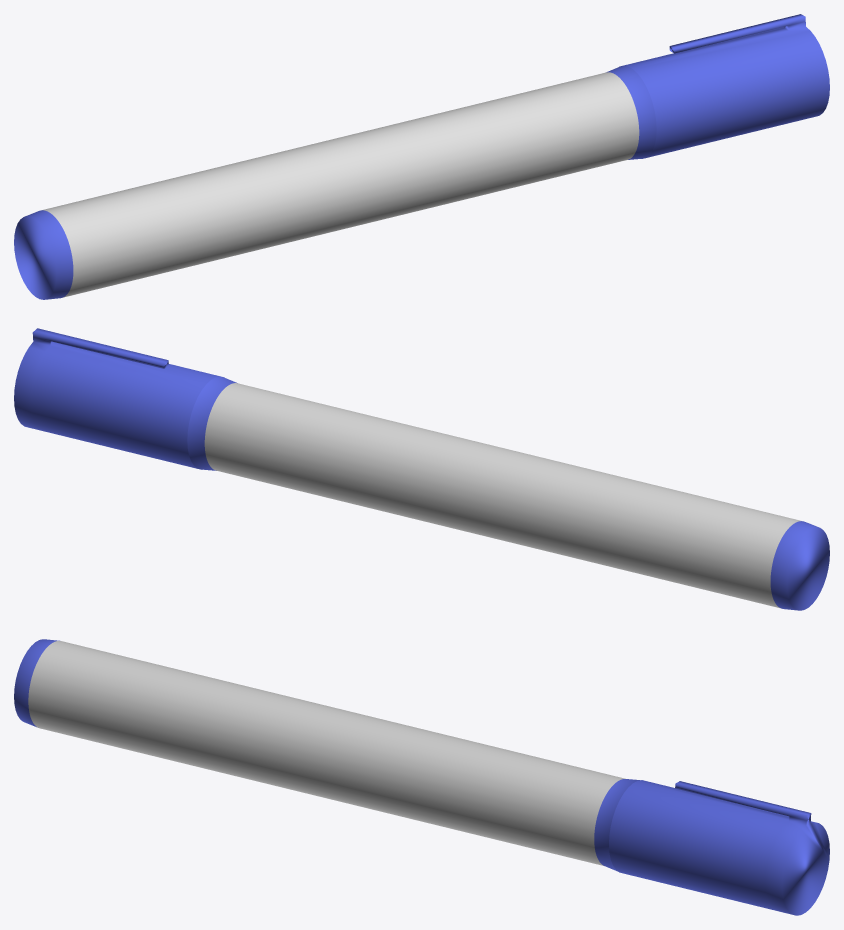
Rendered from feutreBleu.fbx.
The picture shows the model from 3 angles, top to bottom: view 1: azimuth 30°, elevation 25°; view 2: azimuth 150°, elevation 25°; view 3: azimuth 330°, elevation 25°; orthographic projection.
Visible parts, largest first — view 1: stylo; view 2: stylo; view 3: stylo.
Boxes of the visible parts, bbox=[...] form: stylo: bbox=[14, 14, 829, 299]; stylo: bbox=[14, 328, 829, 610]; stylo: bbox=[14, 639, 829, 915].
Bounding box in the file's own units: 2.72 × 0.325 × 0.2924.
